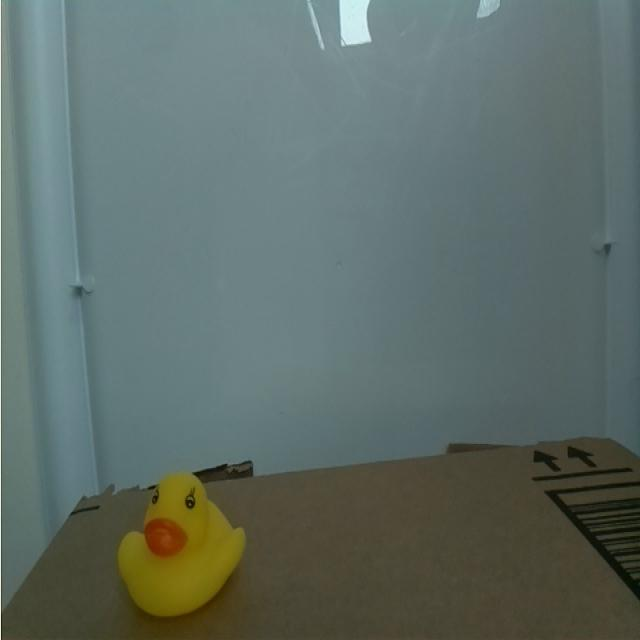duck_regular: (96, 447, 259, 636)
